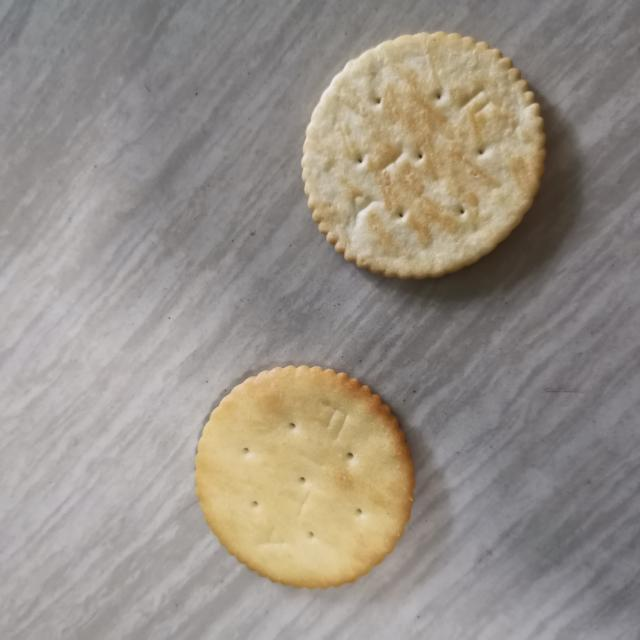Intact: (295, 19, 561, 291), (176, 353, 433, 600)
